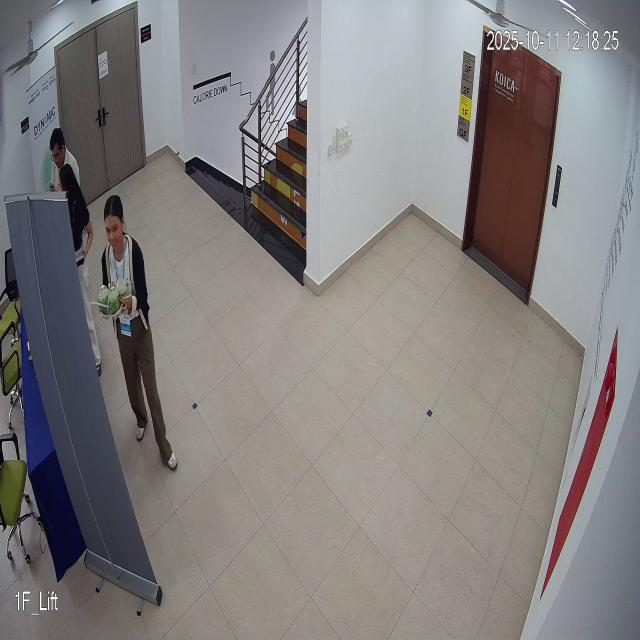face: (103, 189, 127, 266)
